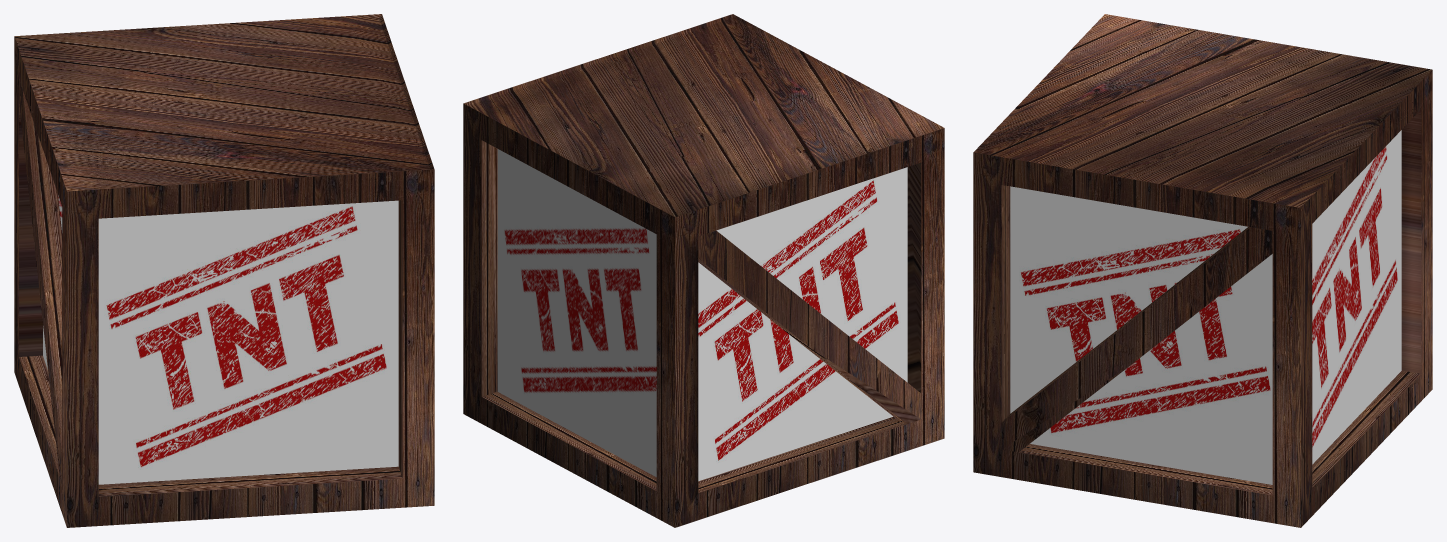
File: tnt.fbx
3 renders of one model, left to right at view 1: azimuth 30°, elevation 25°; view 2: azimuth 150°, elevation 25°; view 3: azimuth 270°, elevation 25°, orthographic. The views are drawn at different scales.
Visible parts, largest first — view 1: Çaja005; view 2: Çaja005; view 3: Çaja005.
Part boxes in pixels (x1,y1,x2,y2): Çaja005: (14, 14, 434, 527); Çaja005: (463, 14, 944, 527); Çaja005: (973, 14, 1432, 527).
Size of the model in its own units: 2672 by 2054 by 2672.
2 materials, 2 textured.
